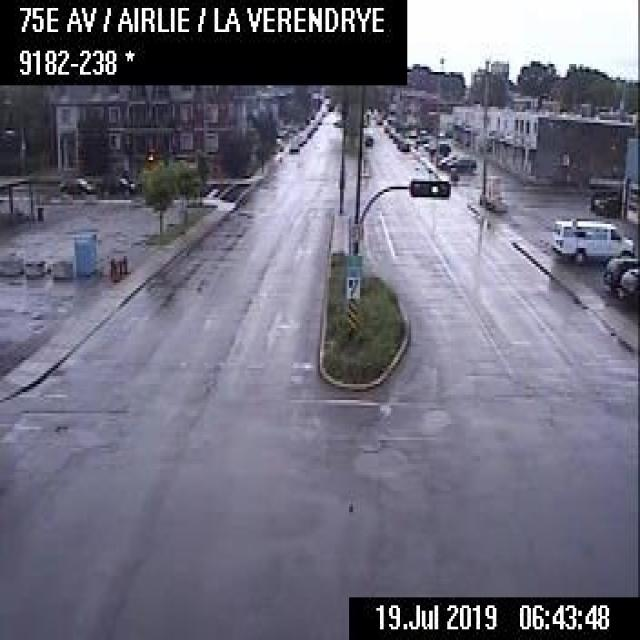construction: (116, 258, 122, 278), (121, 254, 127, 273), (111, 258, 116, 280)
vehicle: (549, 215, 634, 263), (600, 255, 638, 288), (94, 171, 136, 197), (54, 172, 92, 195), (617, 266, 638, 298), (446, 153, 476, 171), (437, 152, 456, 168), (396, 137, 408, 150), (287, 140, 298, 152), (390, 130, 400, 141), (388, 126, 396, 137), (294, 134, 302, 143)
